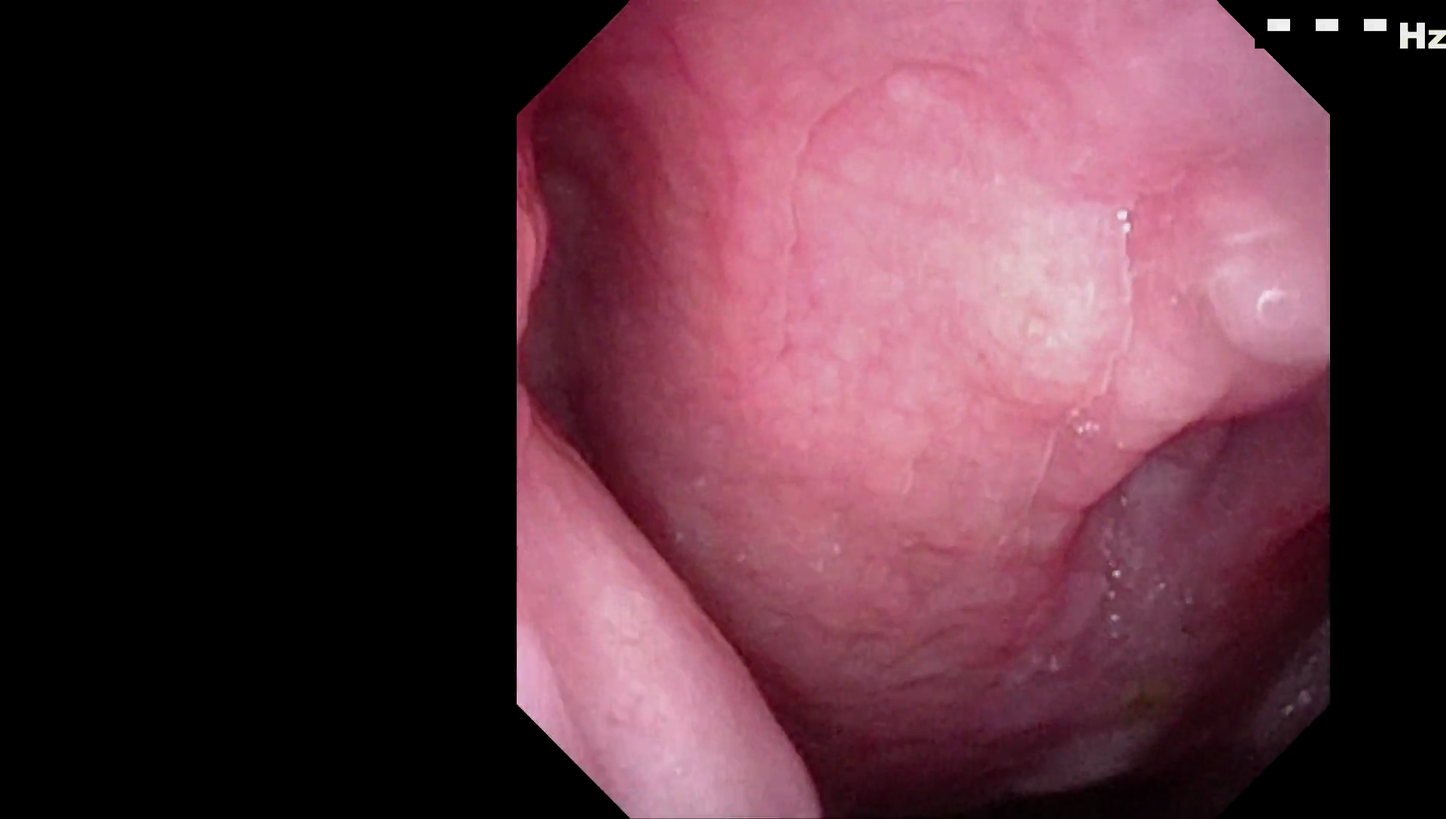close_wall: (745, 72, 1281, 471), (545, 431, 789, 776)
next: (721, 629, 1032, 819), (1005, 625, 1285, 809)
